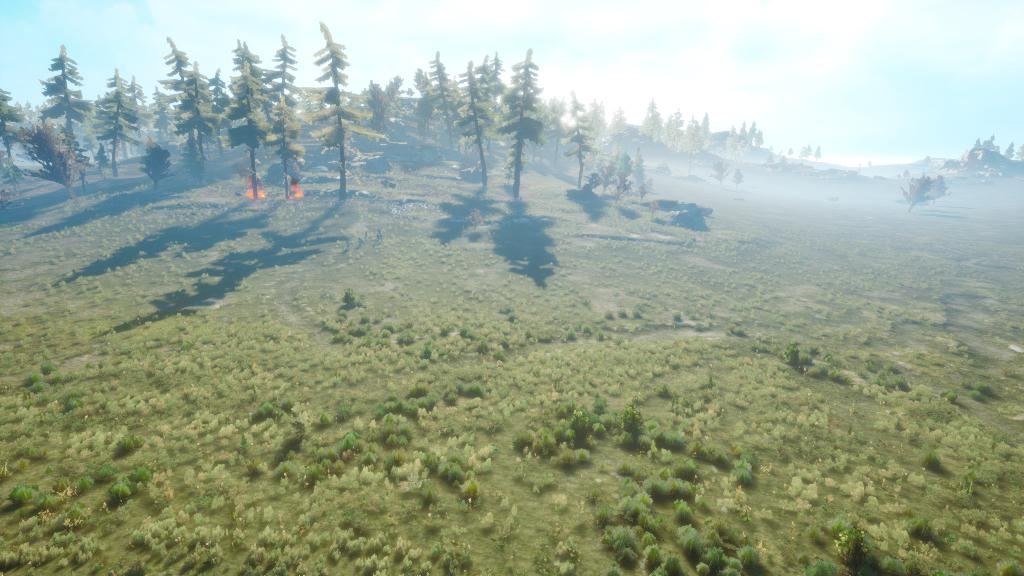Fire: (280, 175, 313, 208), (239, 175, 267, 204)
